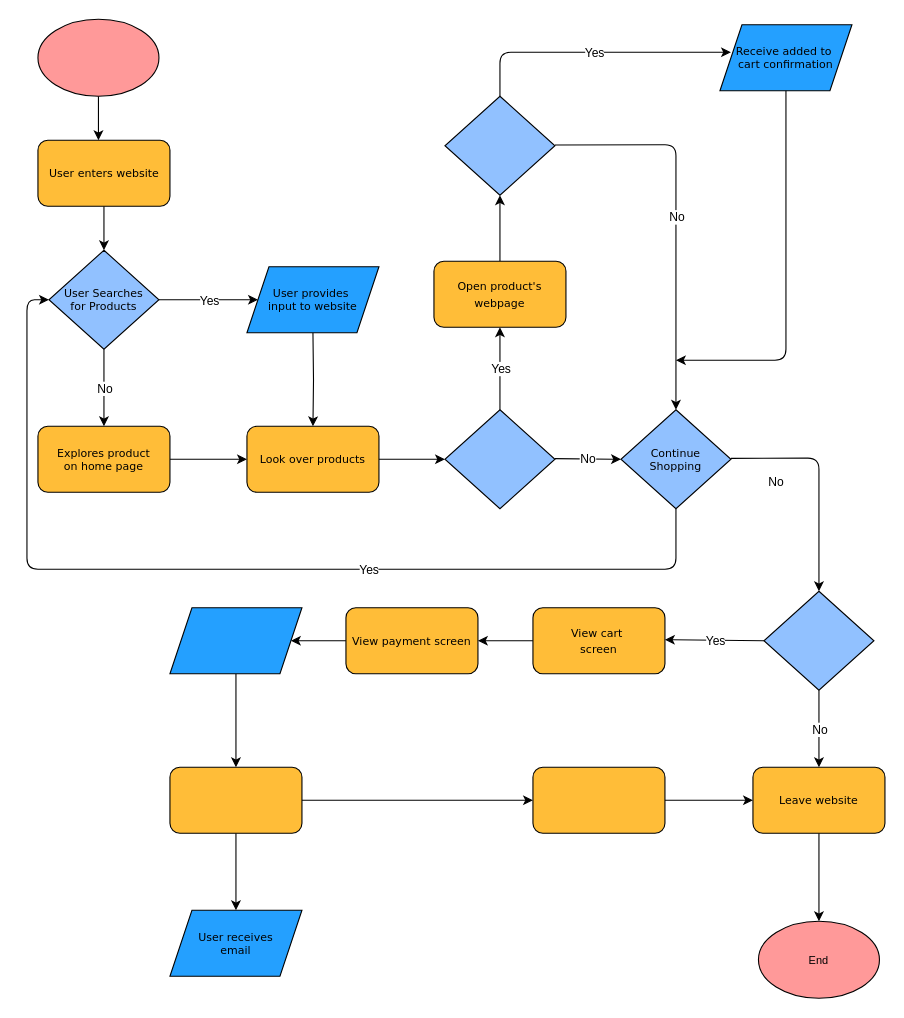
Some shapes in this 904 by 1018 pixel diagram are drawn without their labels. Each missing label, with the box of its shape:
Add item to cart: (444, 95, 555, 195)
Checkout: (763, 590, 874, 690)
Pay: (169, 766, 302, 833)
Start: (37, 18, 159, 96)
User inputs payment info: (169, 607, 302, 674)
View a product: (444, 409, 555, 509)
View order confirmation screen: (532, 766, 665, 833)
